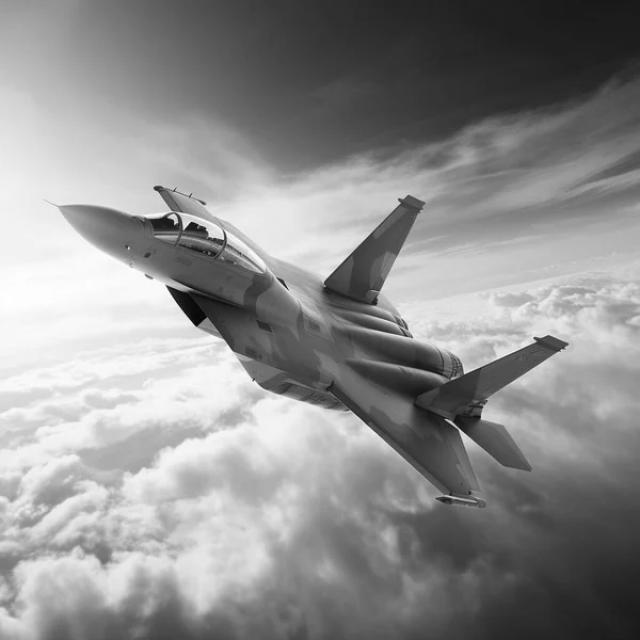Aircraft: (54, 166, 568, 522)
